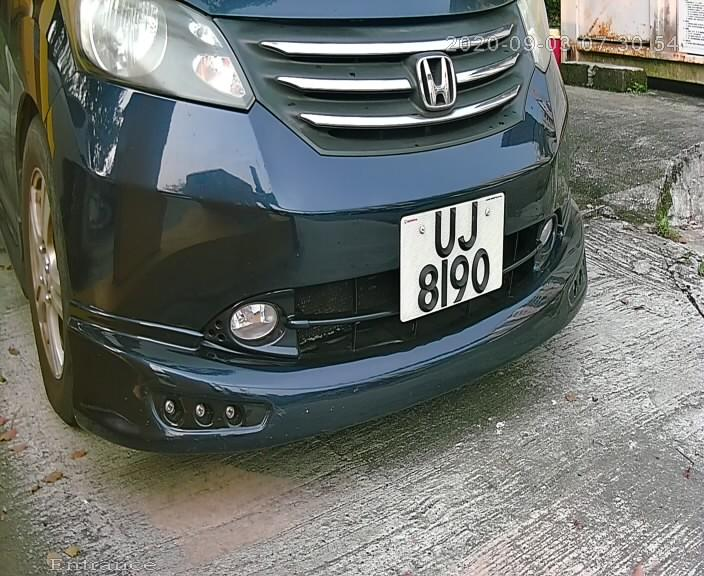Car: (13, 3, 607, 479)
License Plate: (397, 183, 513, 327)
